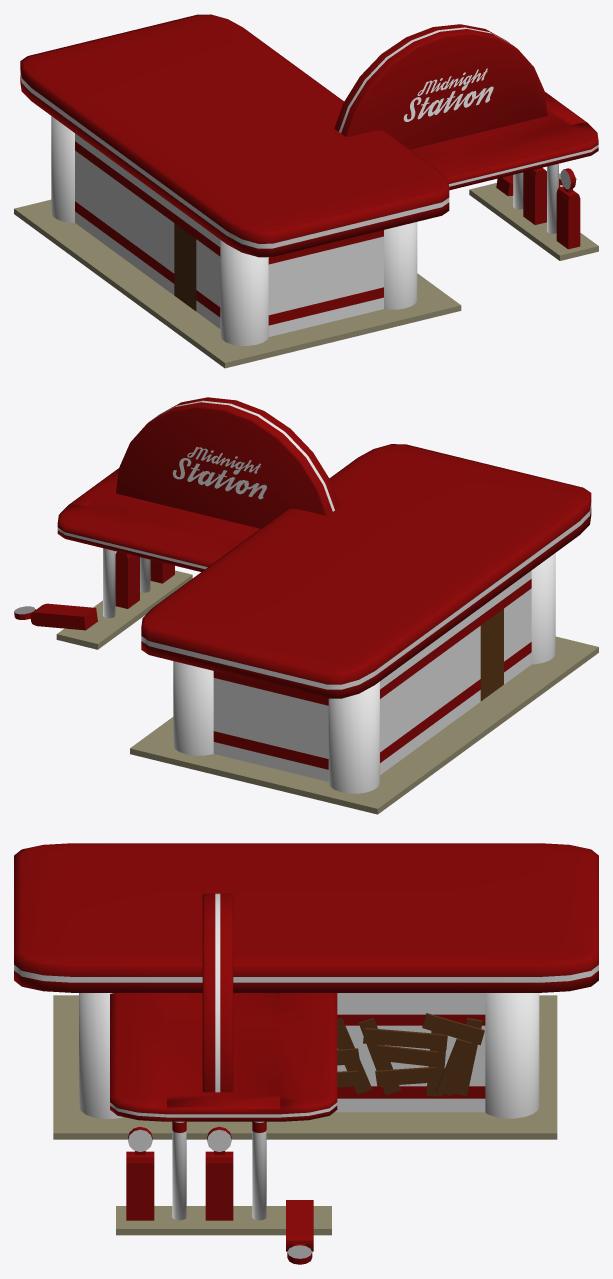
Rendered from Gas_station.fbx.
3 renders of one model, top to bottom at view 1: azimuth 30°, elevation 25°; view 2: azimuth 150°, elevation 25°; view 3: azimuth 270°, elevation 25°, orthographic. The views are drawn at different scales.
Visible parts, largest first — view 1: Cube.028; view 2: Cube.028; view 3: Cube.028.
Boxes of the visible parts, left/top/right/bottom form: Cube.028: left=14, top=14, right=598, bottom=368; Cube.028: left=14, top=397, right=598, bottom=814; Cube.028: left=14, top=843, right=598, bottom=1264.
Bounding box in the file's own units: 2138 × 983 × 2000.
